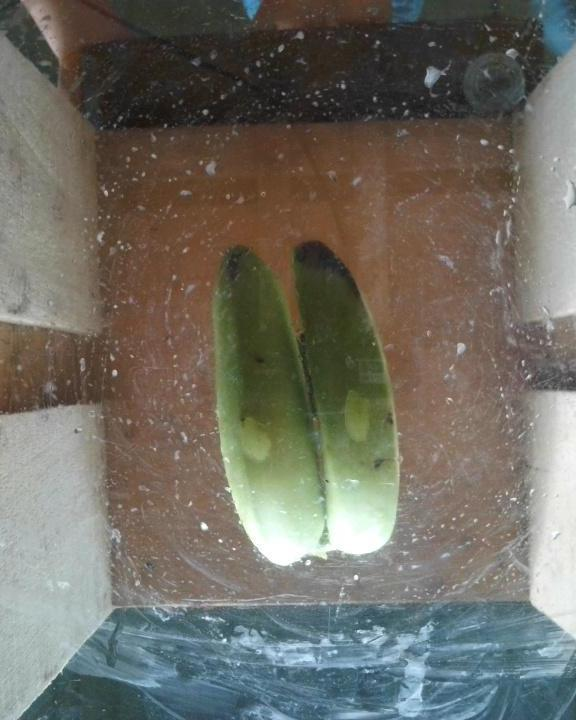CLASS B: (207, 230, 410, 575)
Class A: (299, 243, 357, 291), (223, 249, 256, 281), (360, 452, 392, 475), (377, 407, 402, 424)
